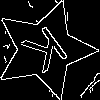K: (20, 25, 76, 82)
